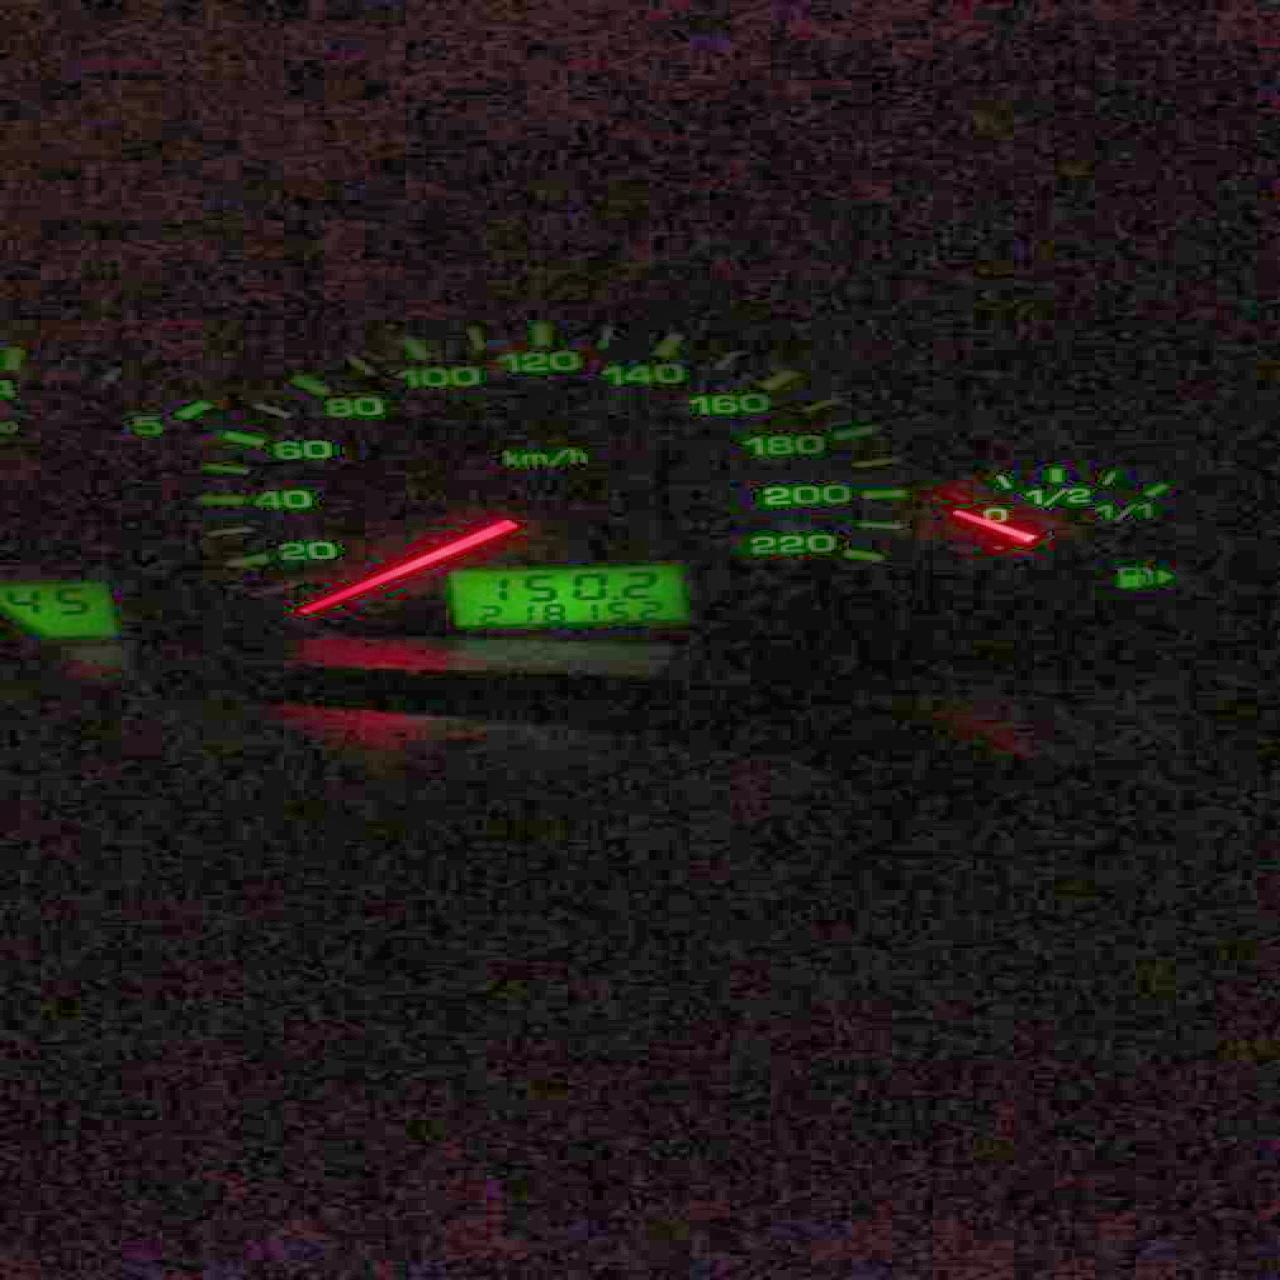-: (608, 592, 619, 600)
0: (570, 571, 606, 599)
1: (491, 574, 515, 600), (523, 604, 535, 621), (588, 601, 598, 620)
2: (621, 568, 662, 599), (474, 602, 508, 622), (639, 599, 665, 618)
5: (519, 571, 556, 601), (606, 600, 628, 619)
8: (543, 602, 565, 621)
odometer: (445, 566, 692, 628)
